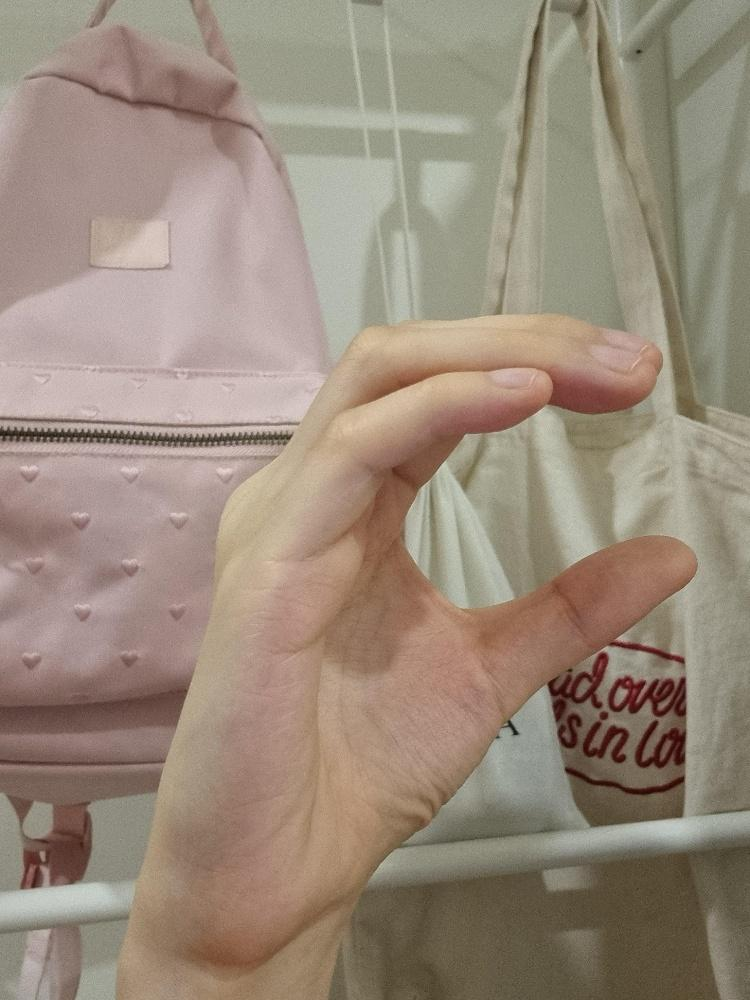c: (152, 310, 700, 970)
